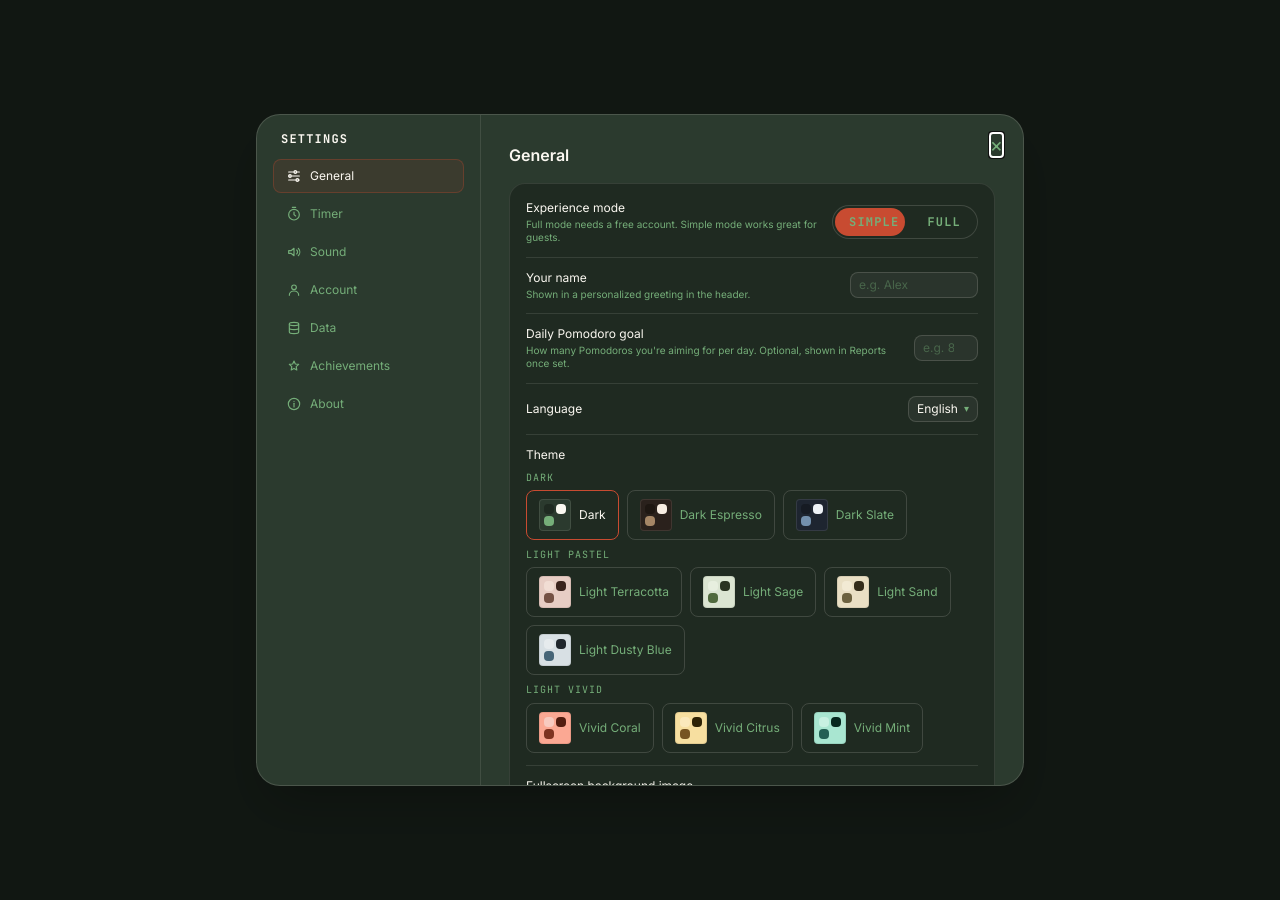
Test: SettingsModal Account category › shows Change Password for an email/password account
Click the button "Account" at (368, 290), box [273,273,464,307]
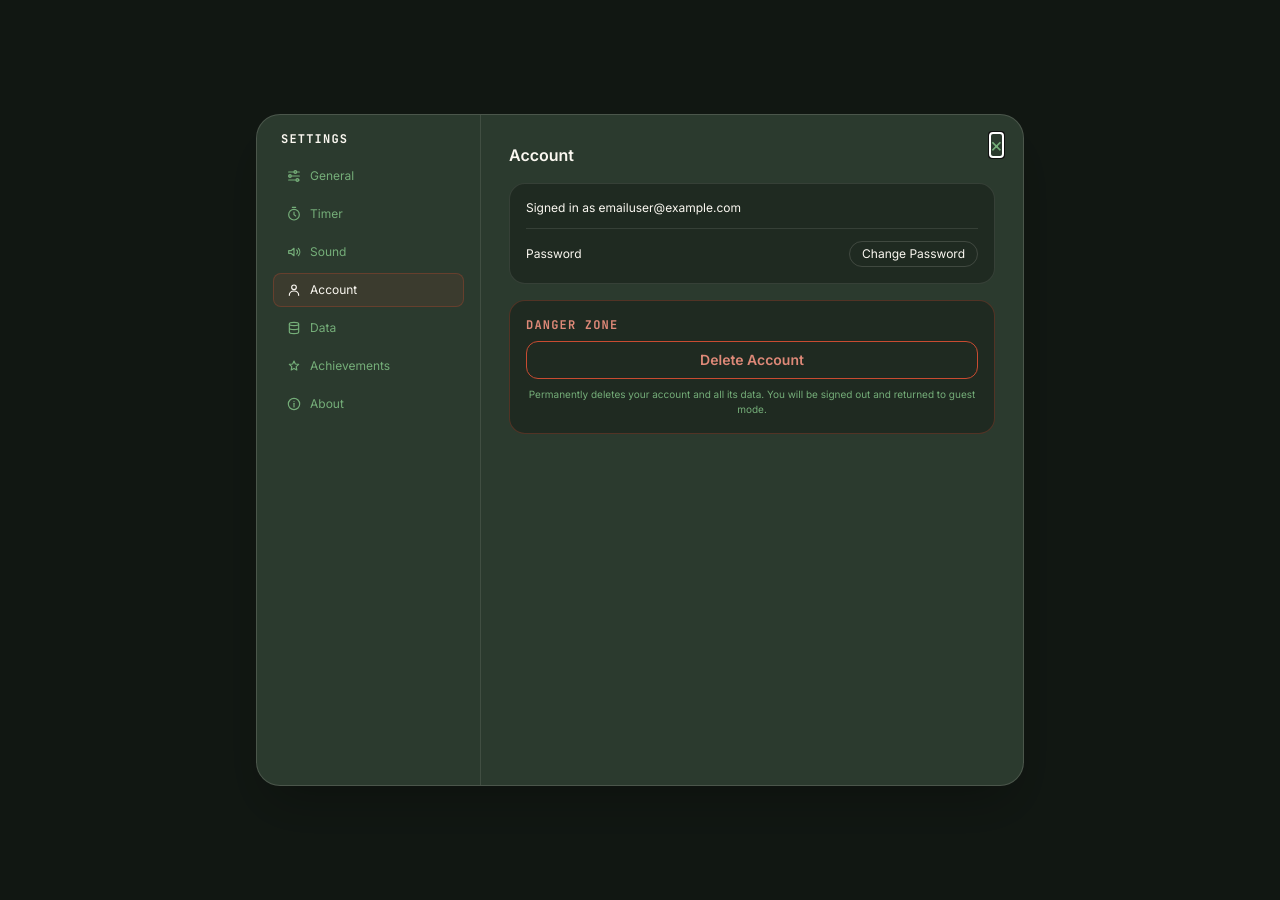
Now the text "Signed in as emailuser@example.com" is shown, box [526,188,978,229]
Now the button "Change Password" is shown, box [849,241,978,267]
